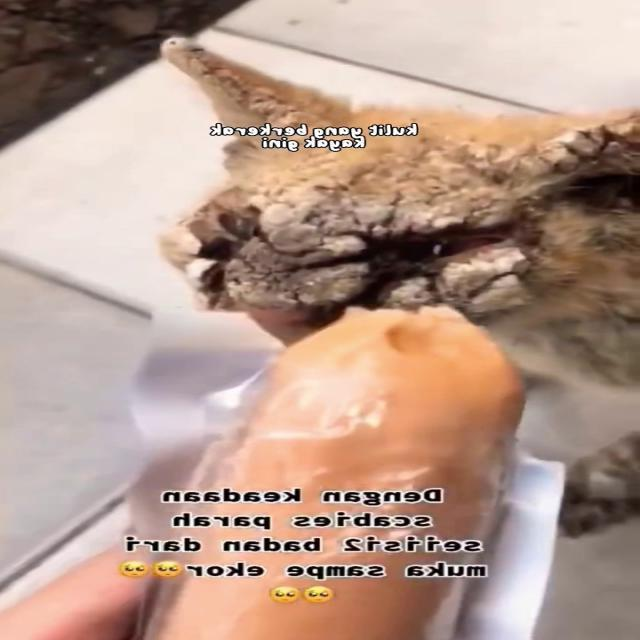ghe: (215, 164, 502, 323)
